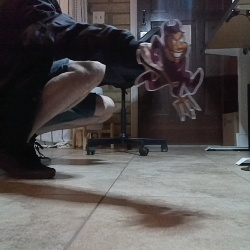sparky: (134, 18, 205, 123)
